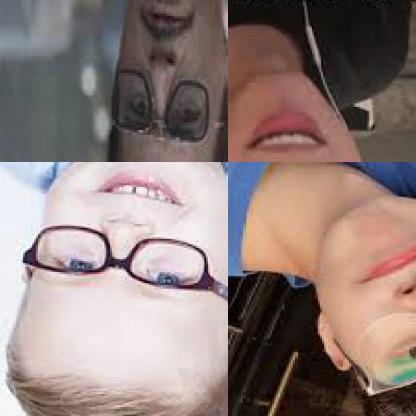glasses: (18, 231, 226, 293), (349, 256, 415, 406), (100, 62, 220, 144)
